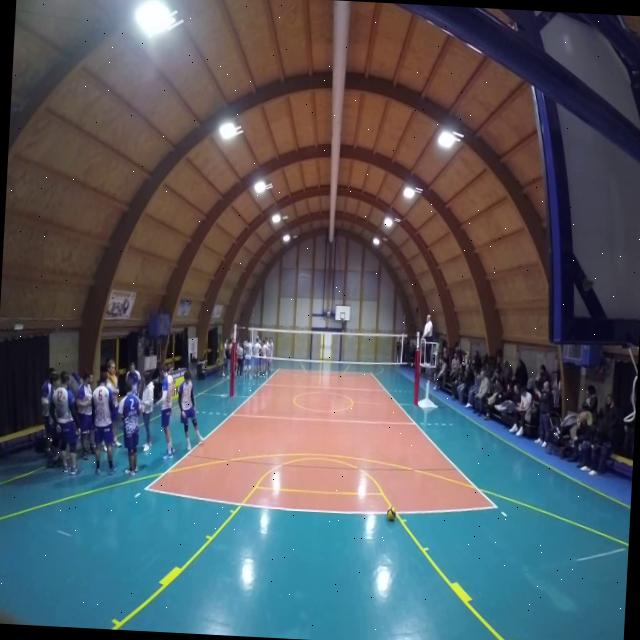Volleyball: (386, 507, 396, 522)
